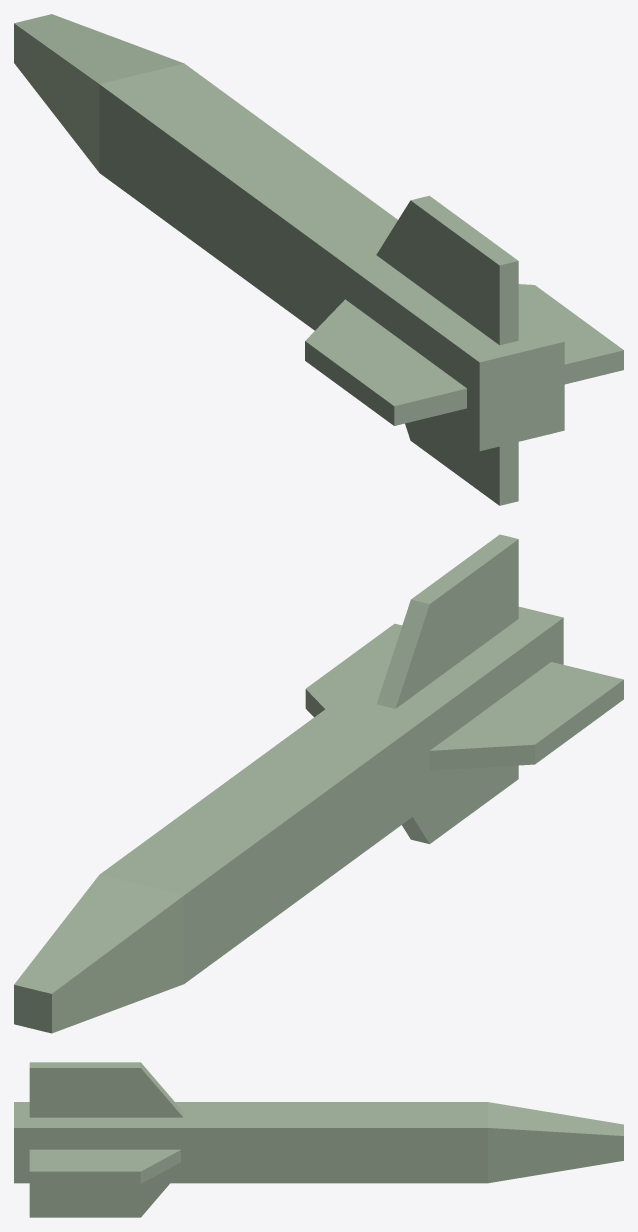
The model's file is Missile.fbx.
The picture shows the model from 3 angles, top to bottom: view 1: azimuth 30°, elevation 25°; view 2: azimuth 150°, elevation 25°; view 3: azimuth 270°, elevation 25°; orthographic projection. The views are drawn at different scales.
Parts seen in each view (by area): view 1: missile_03; view 2: missile_03; view 3: missile_03.
Boxes of the visible parts, x1=… form: missile_03: x1=14, y1=14, x2=623, y2=505; missile_03: x1=14, y1=534, x2=623, y2=1033; missile_03: x1=14, y1=1062, x2=623, y2=1217.
Size of the model in its own units: 6.25 by 6.25 by 23.06.
